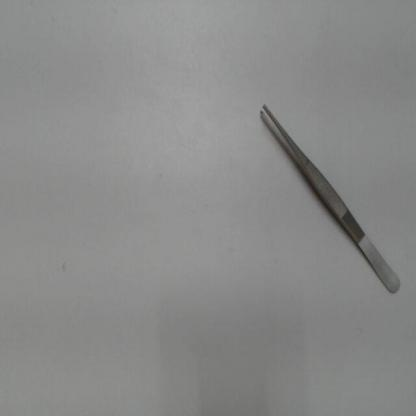Gillies Toothed Dissector: (254, 90, 405, 301)
